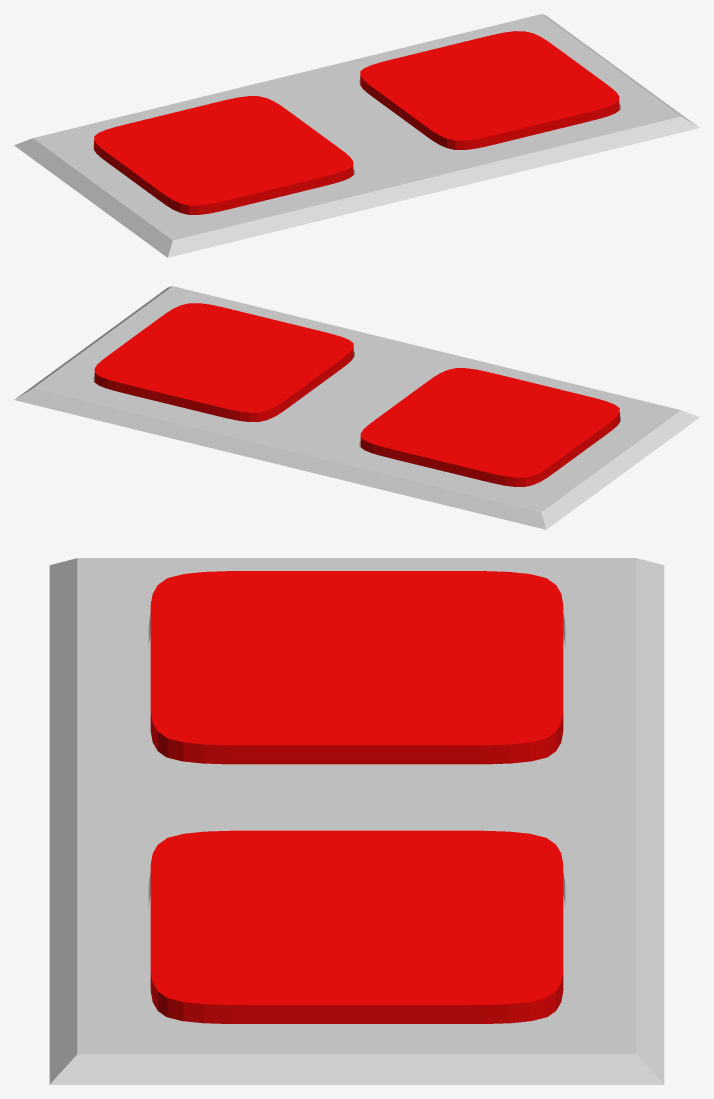
Rendered from props.fbx_B10.fbx.
3 renders of one model, top to bottom at view 1: azimuth 30°, elevation 25°; view 2: azimuth 150°, elevation 25°; view 3: azimuth 270°, elevation 25°, orthographic. The views are drawn at different scales.
Visible parts, largest first — view 1: Plane.010, Plane.013, Plane.012; view 2: Plane.010, Plane.013, Plane.012; view 3: Plane.010, Plane.013, Plane.012.
Part boxes in pixels (x1=…): Plane.010: x1=14, y1=14, x2=699, y2=257; Plane.013: x1=94, y1=96, x2=353, y2=214; Plane.012: x1=360, y1=31, x2=619, y2=149; Plane.010: x1=14, y1=286, x2=699, y2=529; Plane.013: x1=360, y1=368, x2=619, y2=486; Plane.012: x1=94, y1=303, x2=353, y2=421; Plane.010: x1=49, y1=558, x2=664, y2=1084; Plane.013: x1=150, y1=571, x2=563, y2=764; Plane.012: x1=150, y1=830, x2=563, y2=1023.
Bounding box in the file's own units: 2.99 × 0.1111 × 1.5.
